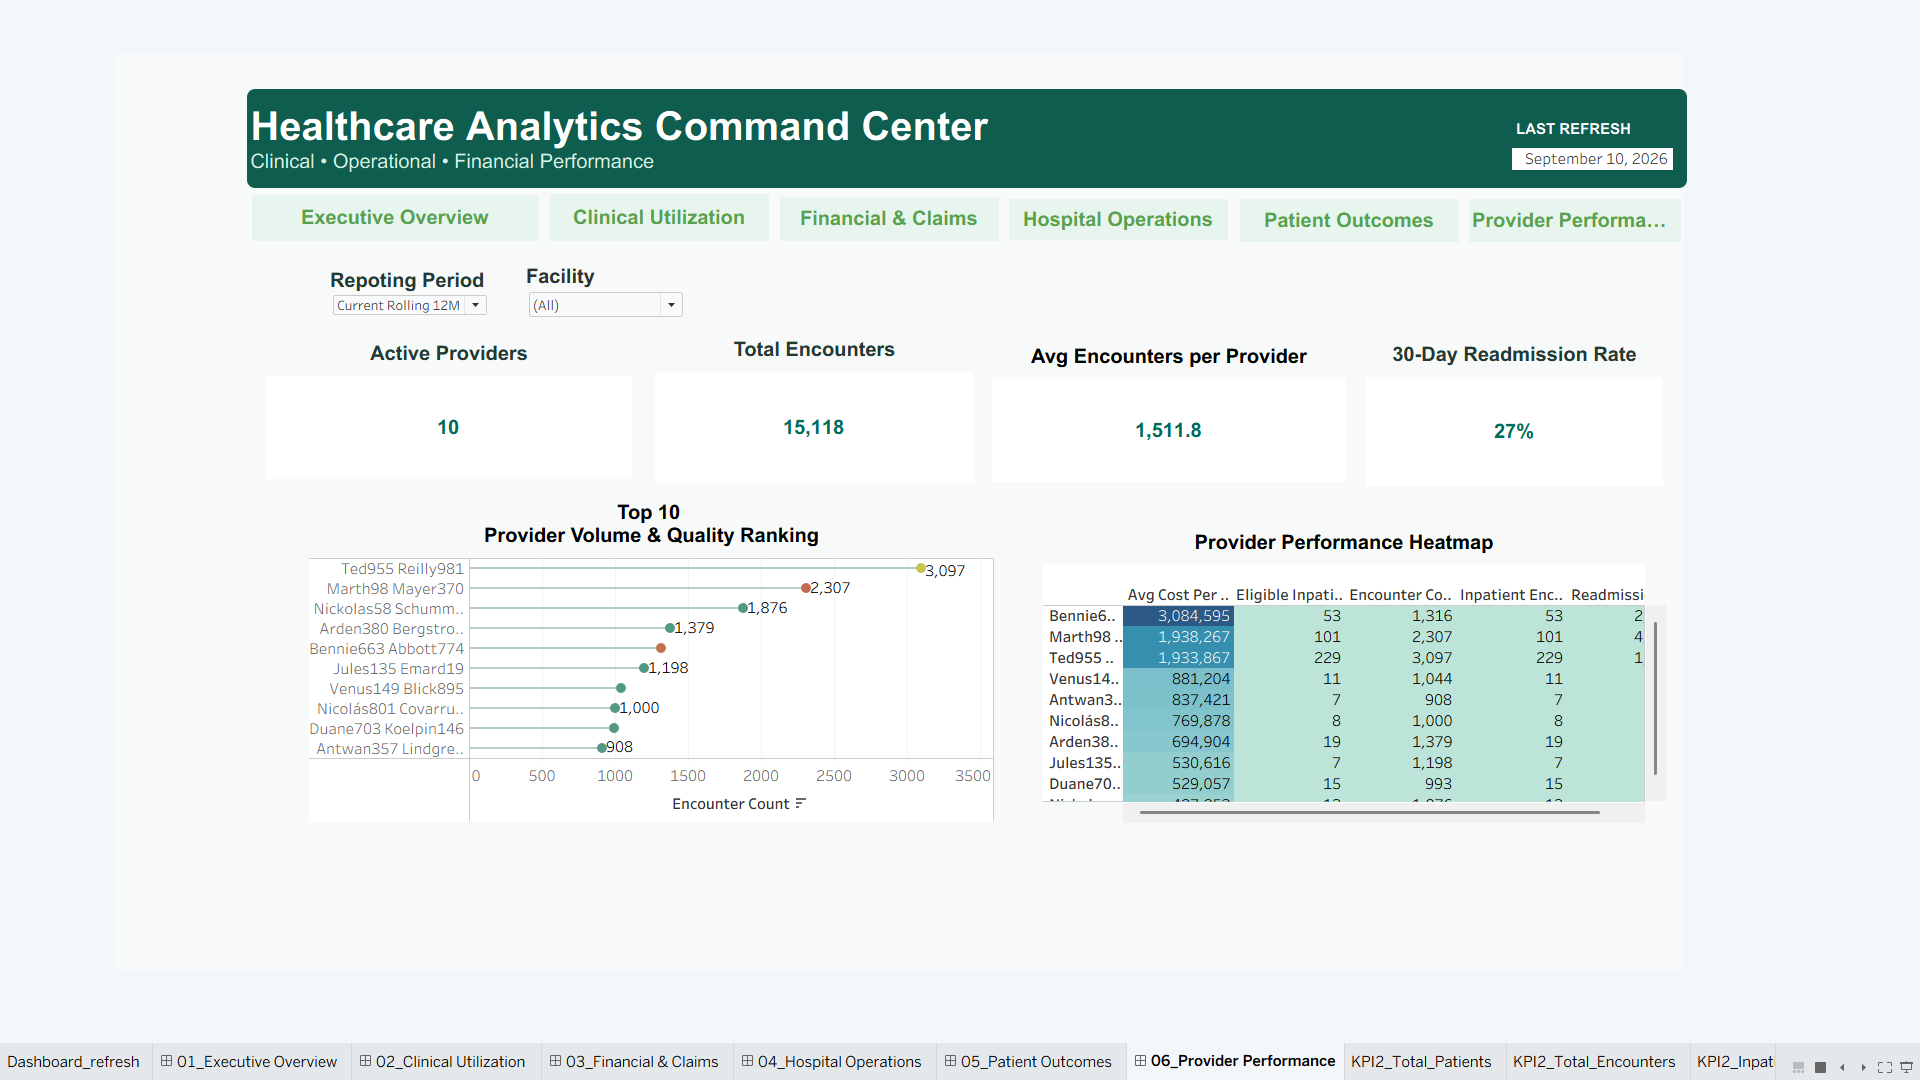

This screenshot's page, from the dashboard's own definition file:
{"tool":"tableau","page":{"name":"06_Provider Performance","canvas":[1440,900],"ordinal":5},"visuals":[{"type":"dashboard-object","box":[310,123,219,47]},{"type":"dashboard-object","box":[12,124,287,46]},{"type":"dashboard-object","box":[540,126,219,44]},{"type":"dashboard-object","box":[769,128,219,41]},{"type":"dashboard-object","box":[1000,128,219,43]},{"type":"dashboard-object","box":[1229,128,212,43]},{"type":"filter","title":"PRV_CHT_Provider_Ranking","param":"[federated.0d2po6400530ri1049c8h1sg9lzr].[attr:provider_name:nk]","box":[286,194,160,304]},{"type":"parameter","param":"[Parameters].[Parameter 0280968702808064]","box":[90,198,160,48]},{"type":"worksheet","title":"PRV_KPI_Total_Encounters","mark":"Automatic","box":[415,263,319,149]},{"type":"worksheet","title":"PRV_KPI_Active_Providers","mark":"Automatic","box":[26,267,366,141]},{"type":"worksheet","title":"PRV_KPI_Readmission_Rate","mark":"Automatic","box":[1126,268,297,147]},{"type":"worksheet","title":"PRV_KPI_Avg_Encounters","mark":"Automatic","box":[752,270,354,141]},{"type":"worksheet","title":"PRV_CHT_Provider_Ranking","mark":"Automatic","rows":["provider_name"],"cols":["encounter_count","encounter_count"],"box":[69,426,685,392]},{"type":"worksheet","title":"PRV_CHT_Productivity_Qualityheet 38","mark":"Square","rows":["provider_name"],"box":[803,456,623,296]}]}

Visuals, with their boxes on the page's 1440x900 design canvas (x1, y1, x2, y2). These are canvas units, not pixel positions in the 1920x1080 screenshot, which may show the page scaled, cropped or inside an application window:
dashboard-object: x1=310, y1=123, x2=529, y2=170
dashboard-object: x1=12, y1=124, x2=299, y2=170
dashboard-object: x1=540, y1=126, x2=759, y2=170
dashboard-object: x1=769, y1=128, x2=988, y2=169
dashboard-object: x1=1000, y1=128, x2=1219, y2=171
dashboard-object: x1=1229, y1=128, x2=1441, y2=171
"PRV_CHT_Provider_Ranking" filter: x1=286, y1=194, x2=446, y2=498
parameter: x1=90, y1=198, x2=250, y2=246
"PRV_KPI_Total_Encounters" worksheet: x1=415, y1=263, x2=734, y2=412
"PRV_KPI_Active_Providers" worksheet: x1=26, y1=267, x2=392, y2=408
"PRV_KPI_Readmission_Rate" worksheet: x1=1126, y1=268, x2=1423, y2=415
"PRV_KPI_Avg_Encounters" worksheet: x1=752, y1=270, x2=1106, y2=411
"PRV_CHT_Provider_Ranking" worksheet: x1=69, y1=426, x2=754, y2=818
"PRV_CHT_Productivity_Qualityheet 38" worksheet (Square marks): x1=803, y1=456, x2=1426, y2=752
